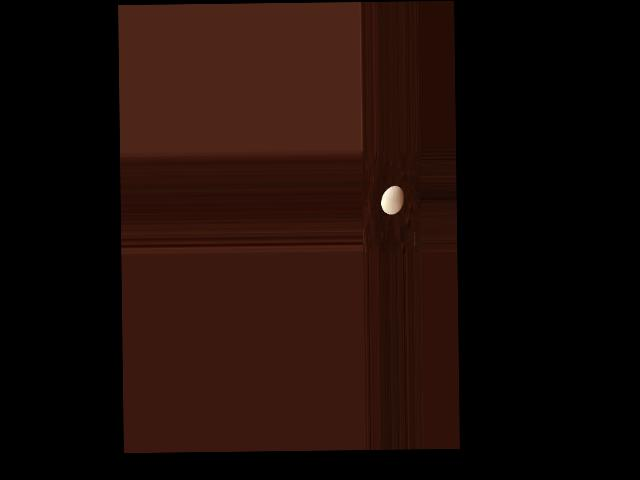egg: (381, 185, 404, 214)
